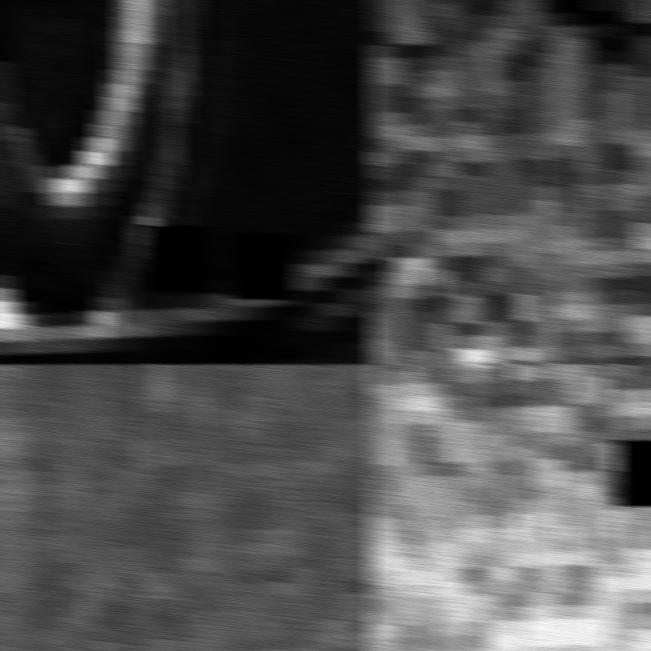Airbag: (0, 0, 374, 364), (0, 364, 374, 651), (367, 0, 651, 364), (367, 364, 651, 651)
